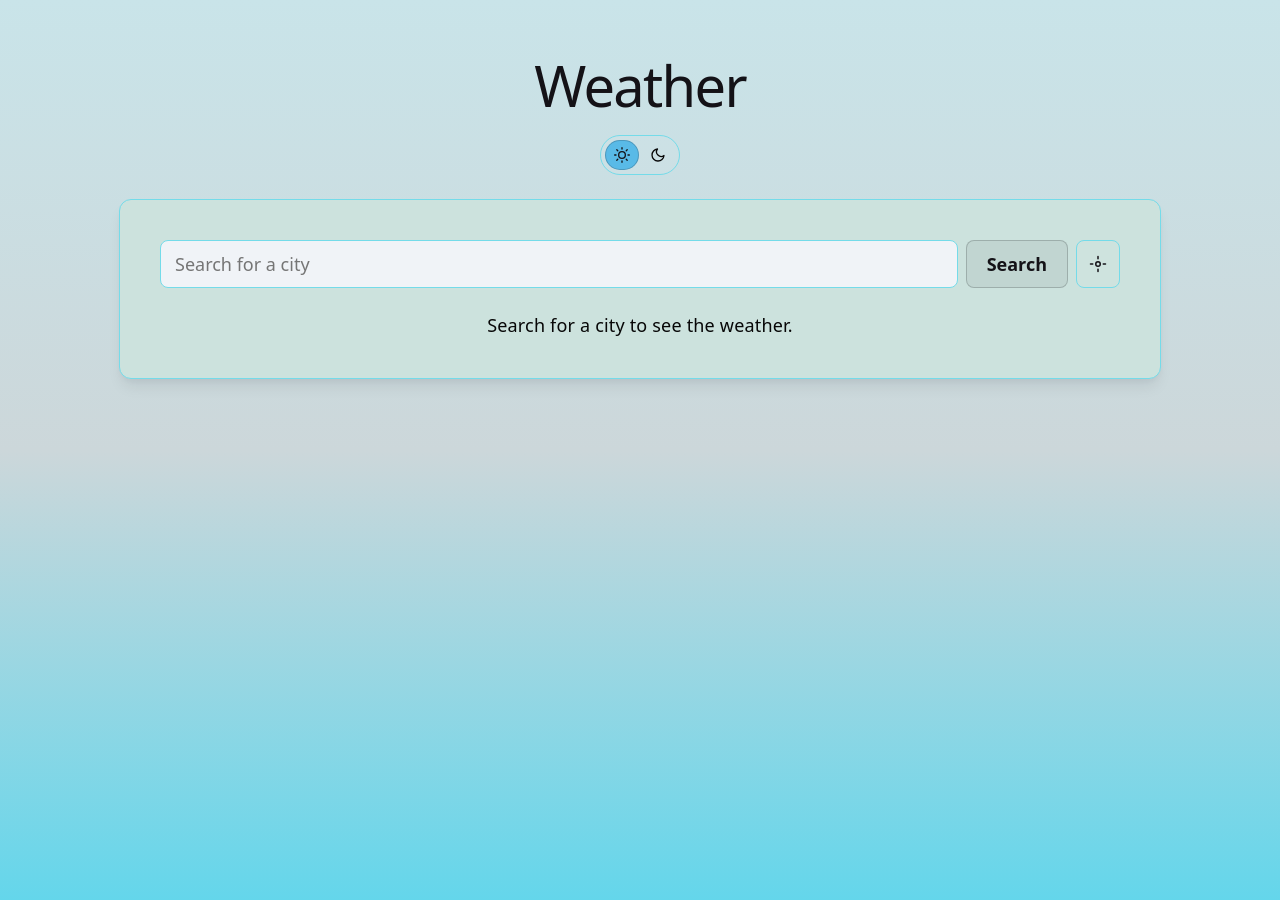
App loading and error screens › shows a not-found error when no cities match
In the field named "City name": (559, 264) [160,240,958,288], type "Xyzabc"
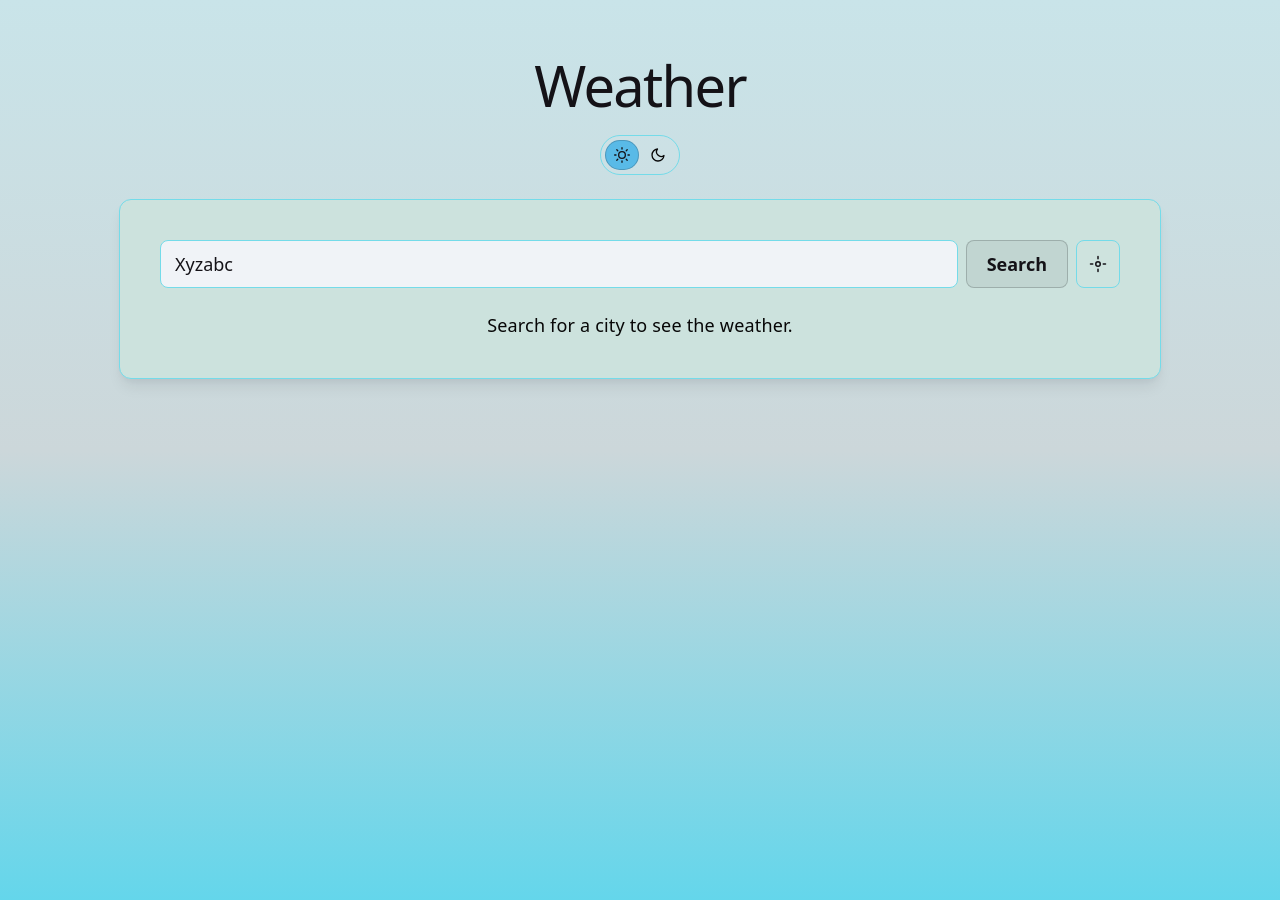
Click the button "Search": (1017, 264) [966,240,1068,288]
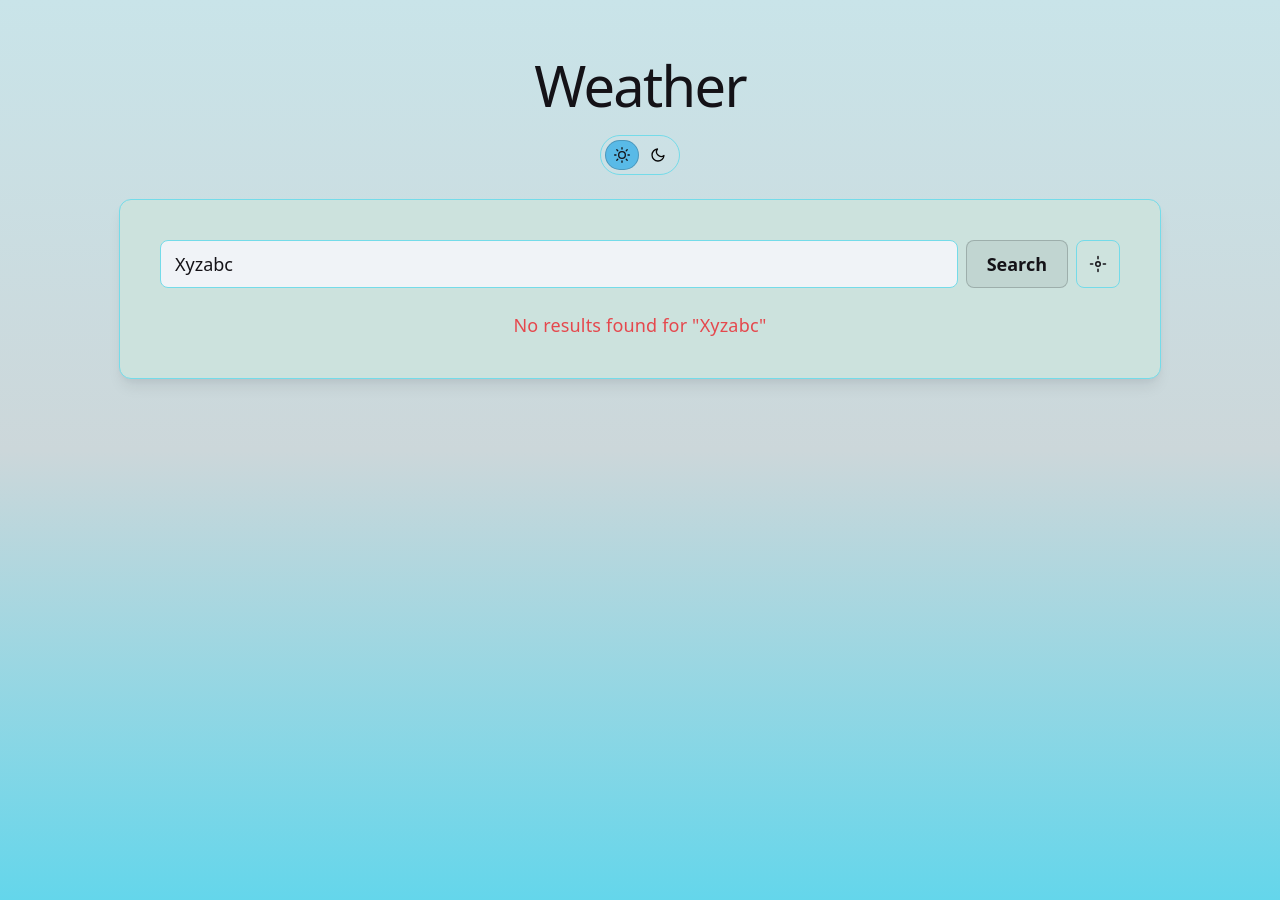
Result: the message reads "No results found for \"Xyzabc\"" at [513,313,767,337]
